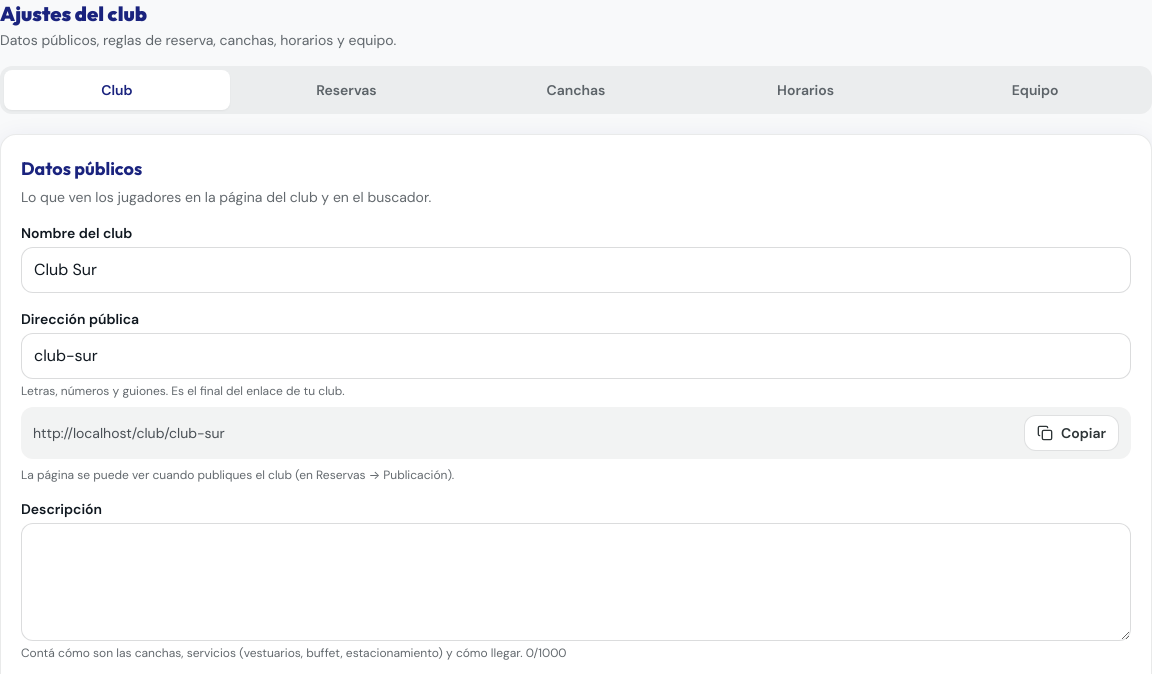
Ajustes del club › muestra por qué el servidor no deja publicar
Click the tab "Reservas" at (346, 90), box [234, 70, 459, 110]
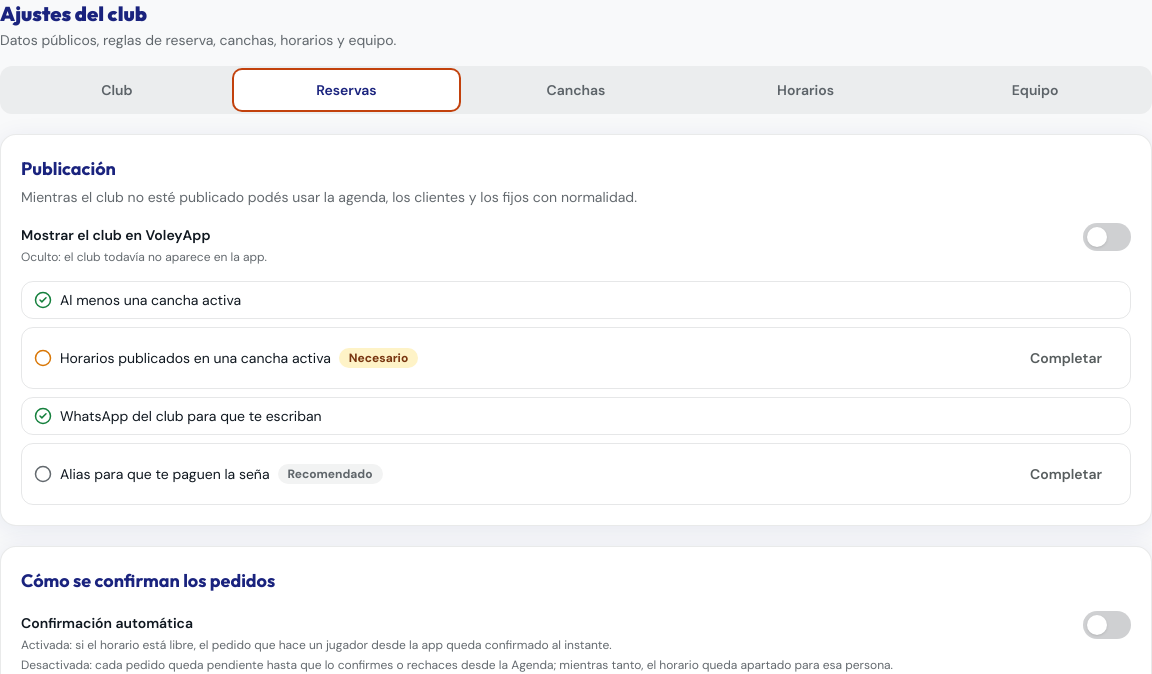
Result: the text "Horarios publicados en una cancha activa" is shown at [60, 348, 331, 368]
Click the switch named "Mostrar el club en VoleyApp" in the row of "Mostrar el club en VoleyApp" at (1107, 237), box [1083, 223, 1131, 251]
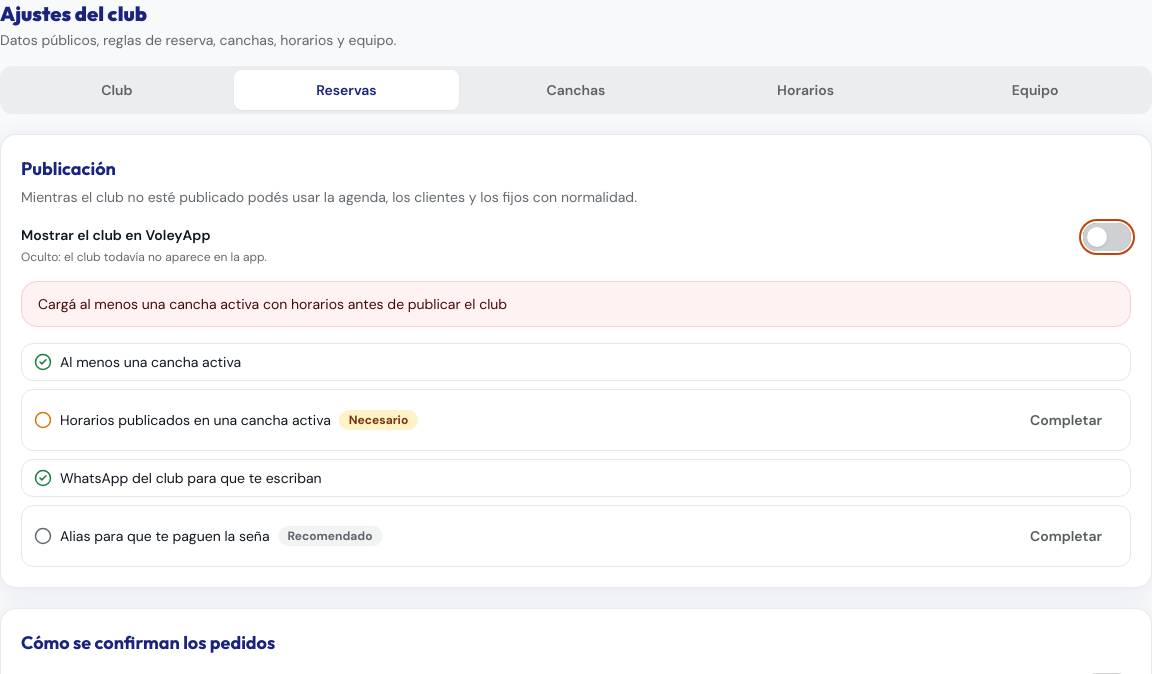
Result: the text "Cargá al menos una cancha activa con horarios antes de publicar el club" is shown at [38, 295, 507, 313]
